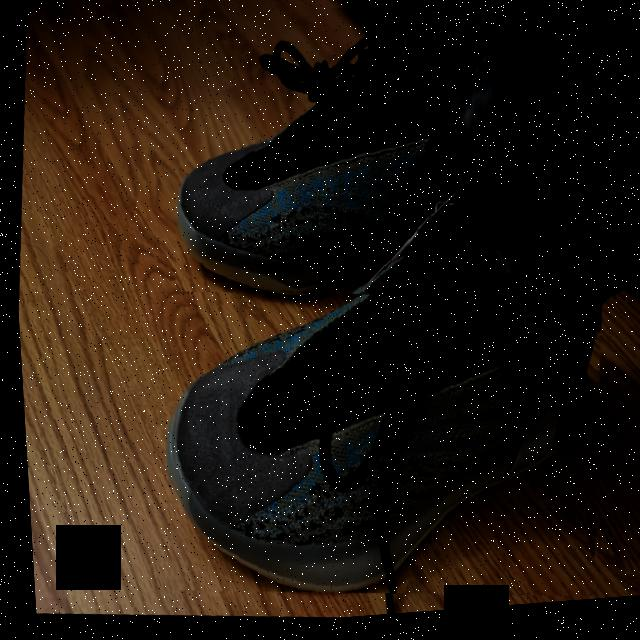shoe: (137, 154, 621, 630), (157, 0, 490, 319)
